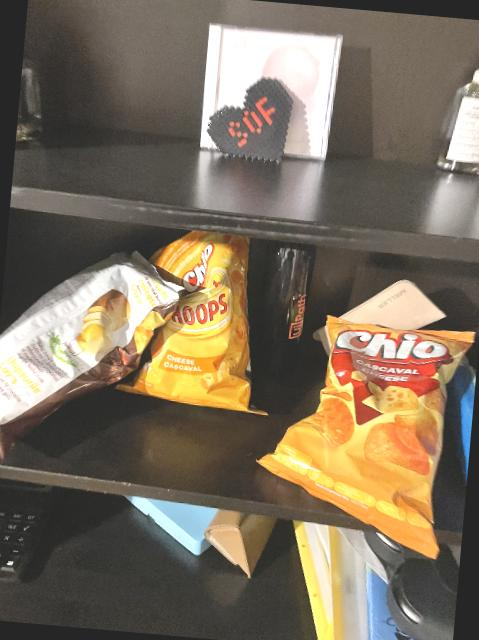Chio Cascaval 125g: (250, 312, 477, 564)
Chio Hula Hoops Cheese 70g: (115, 226, 277, 410)
Lays Beef Grilled Ribs 125g: (0, 240, 191, 469)
